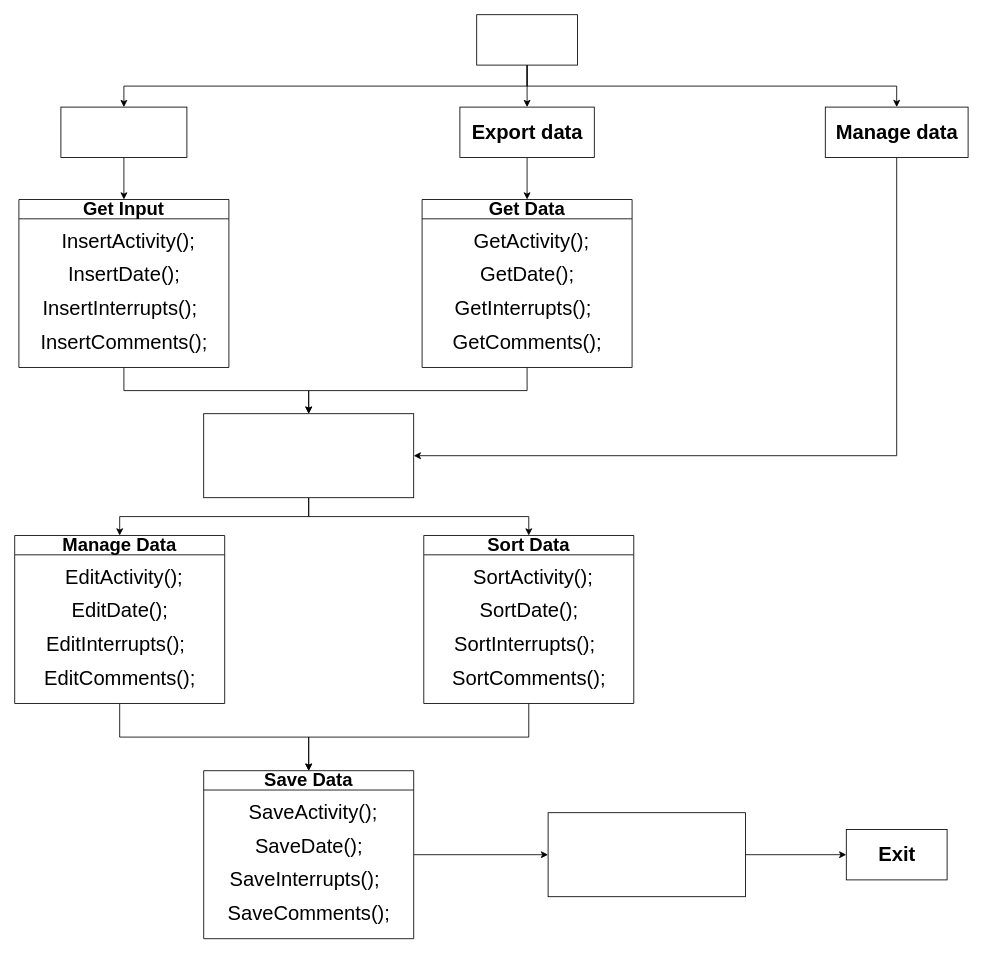
Some shapes in this 983 by 953 pixel diagram are drawn without their labels. Here are the shapes that lost their labels. From the top down, the centre of each, then its label:
[527,39]: Start
[123,132]: Insert data
[308,455]: Data storage
[646,854]: Represent data
